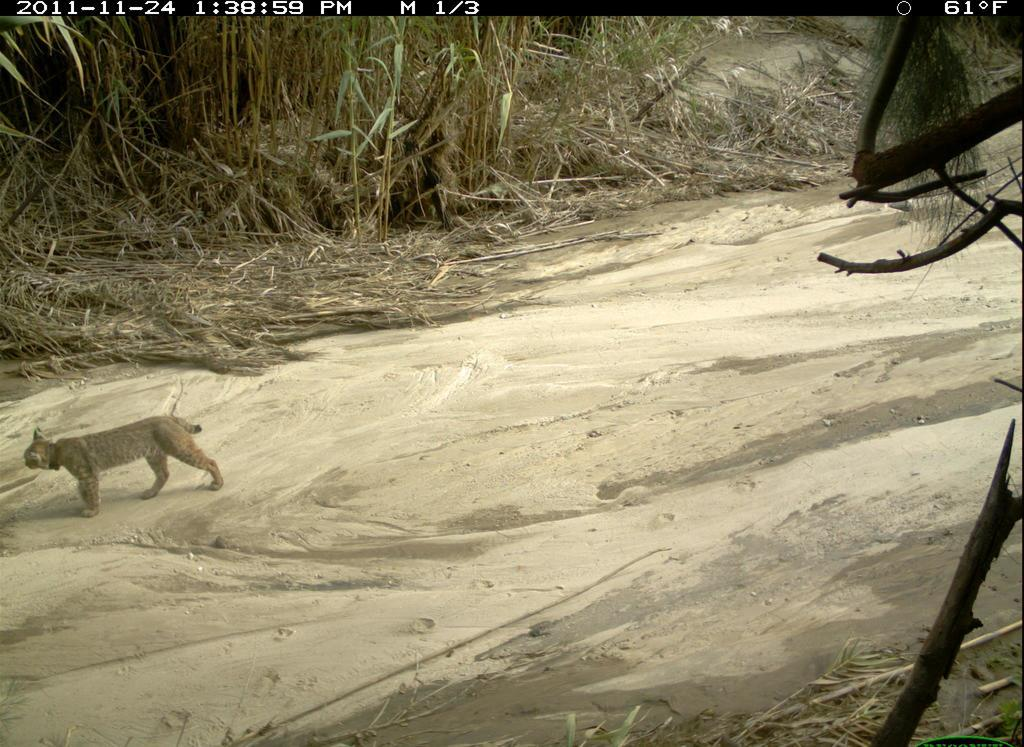bobcat: (15, 410, 251, 528)
